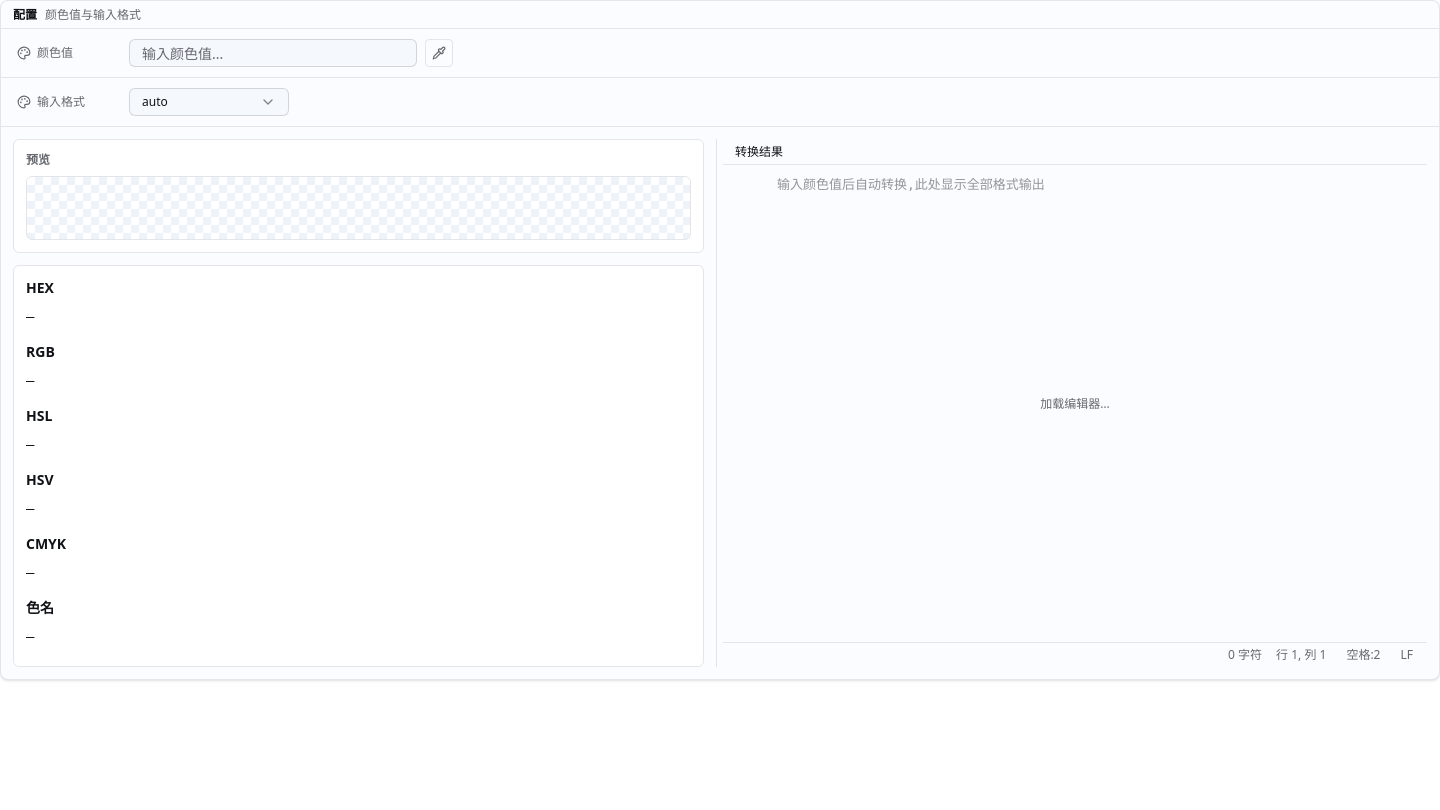
Test: ColorConverter › 解析失败时显示错误 alert
Type "#xyz" into the field with test id "input". click: (273, 53)
box: left=129, top=39, right=417, bottom=67
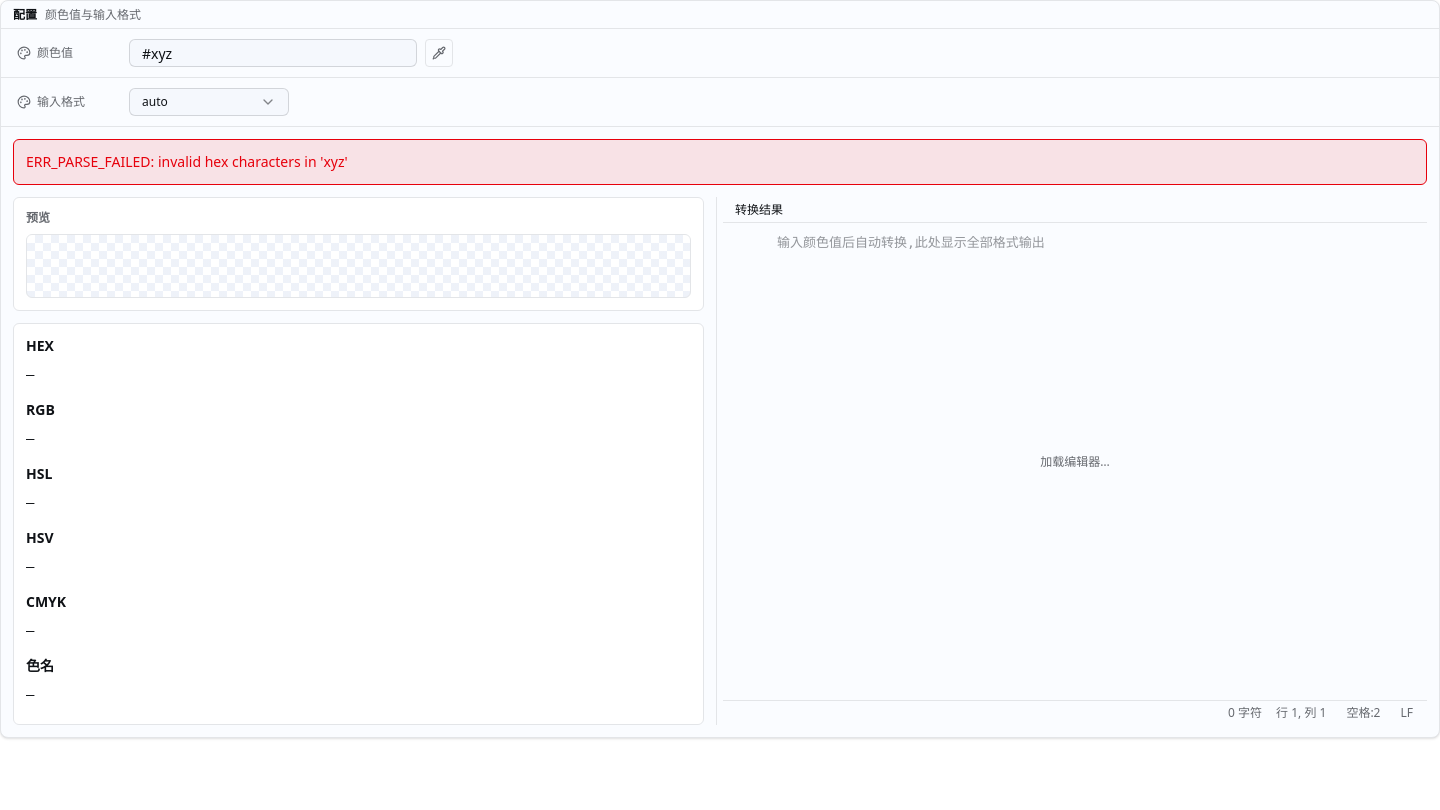
expect the text "ERR_PARSE_FAILED: invalid hex characters in 'xyz'" is shown: met, box left=13, top=139, right=1427, bottom=185
